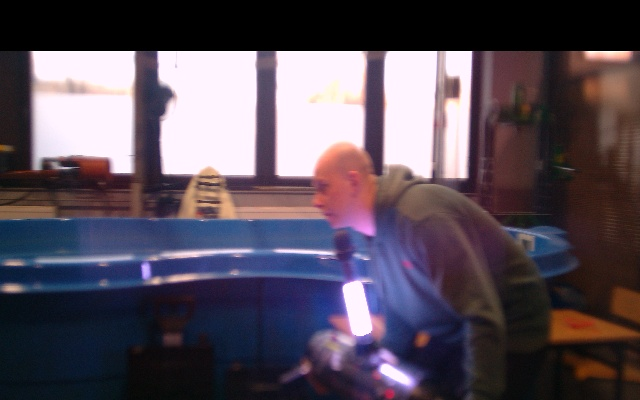white: (342, 280, 374, 337)
